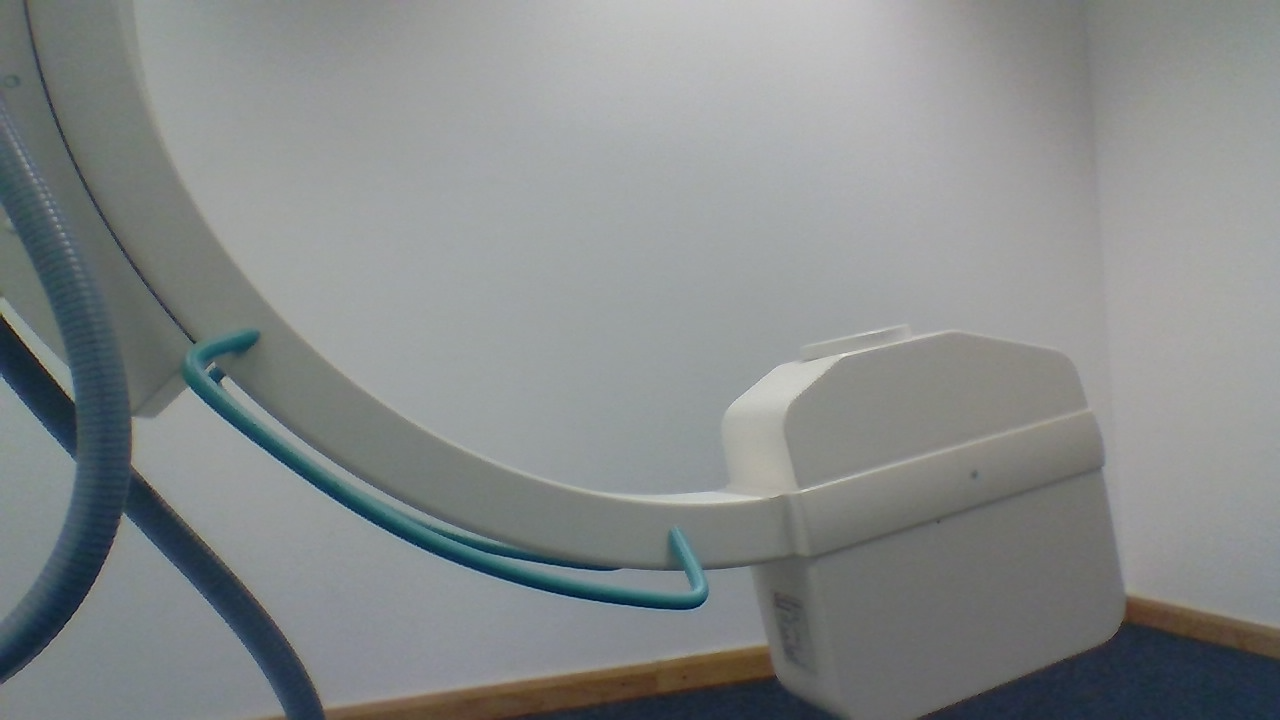carmDOWN: (716, 321, 1105, 494)
